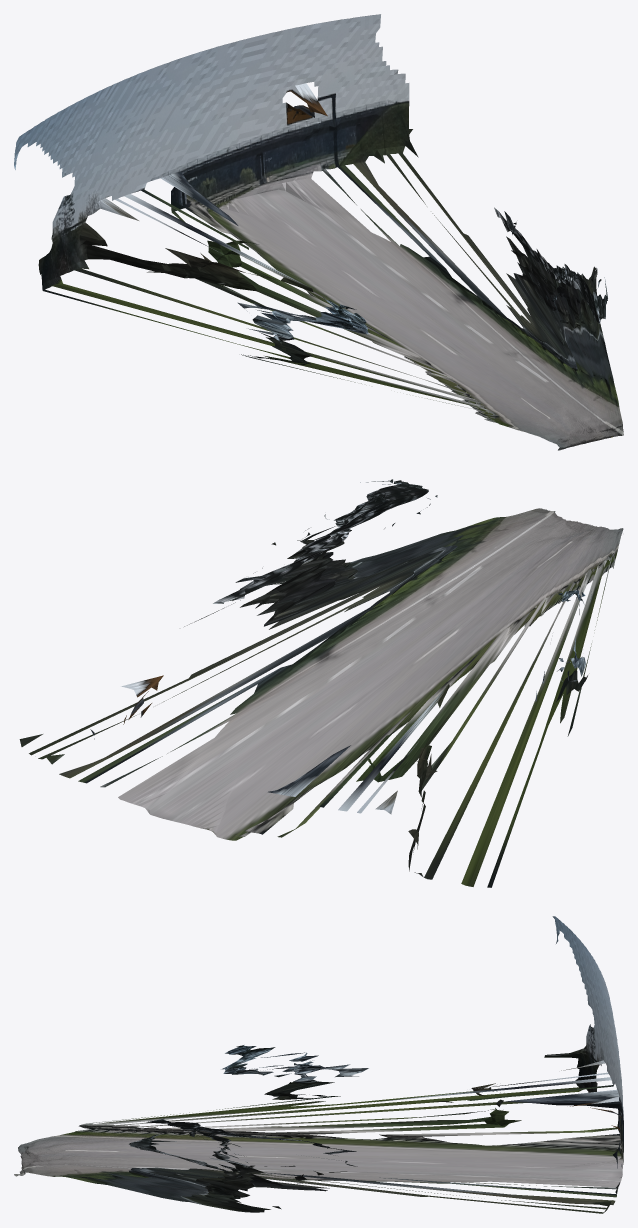
3 renders of one model, top to bottom at view 1: azimuth 30°, elevation 25°; view 2: azimuth 150°, elevation 25°; view 3: azimuth 270°, elevation 25°, orthographic. The views are drawn at different scales.
Visible parts, largest first — view 1: defaultobject; view 2: defaultobject; view 3: defaultobject.
Boxes of the visible parts, x1,y1,x2,y2 form: defaultobject: (14,14,623,450); defaultobject: (19,479,623,887); defaultobject: (14,916,623,1213).
Size of the model in its own units: 31.86 by 12.99 by 44.69.
1 material, 1 textured.
